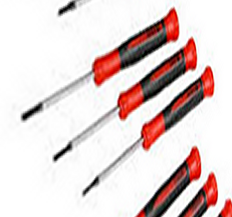screwdriver: (14, 3, 224, 196)
